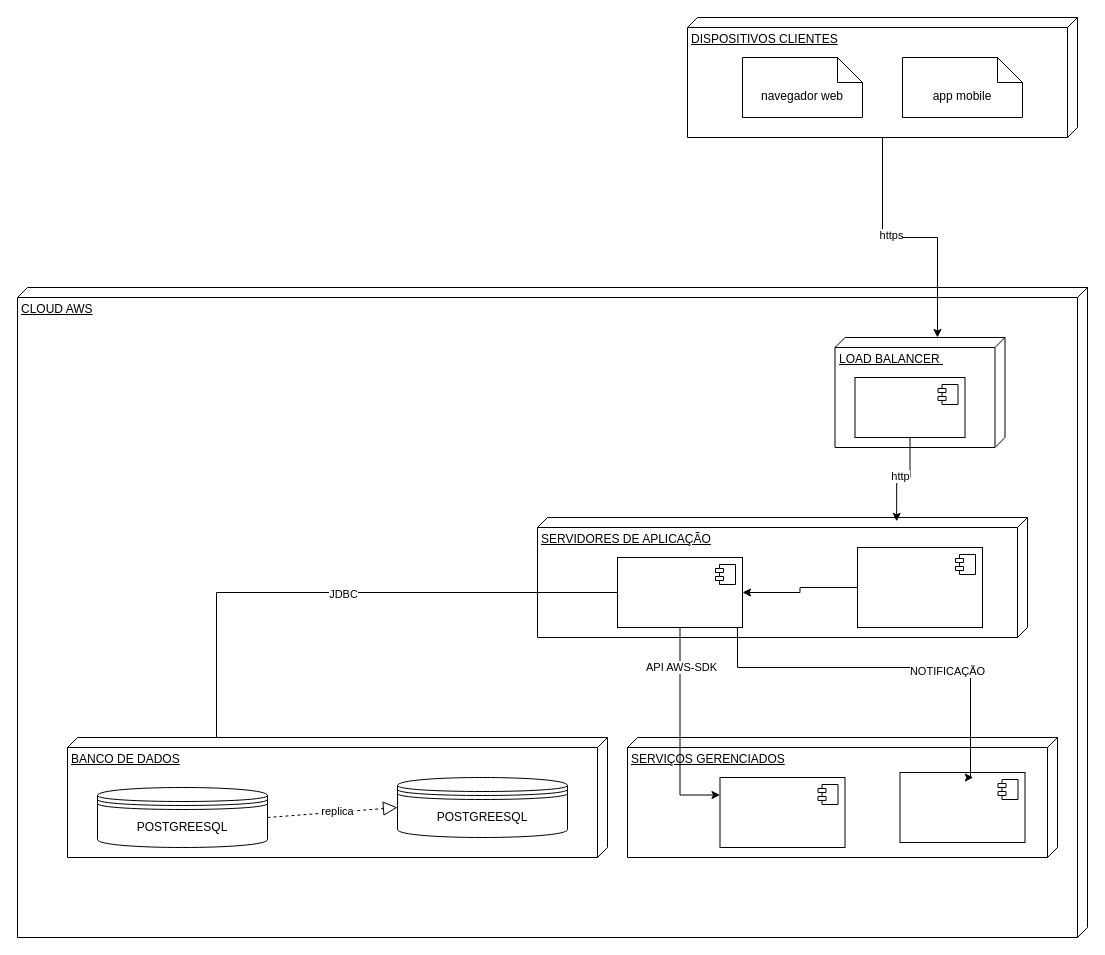
Image size: 1105x955. Some labels were removed from this diagram. The shapes that lost their labels are listed below. From the top down, each one's centre as x and y in pixels, then its label:
[909,407]: kafka
[679,592]: backend: spring boot
[919,587]: frontend: react
[782,812]: AMAZON S3
[962,807]: AMAZON SNS
